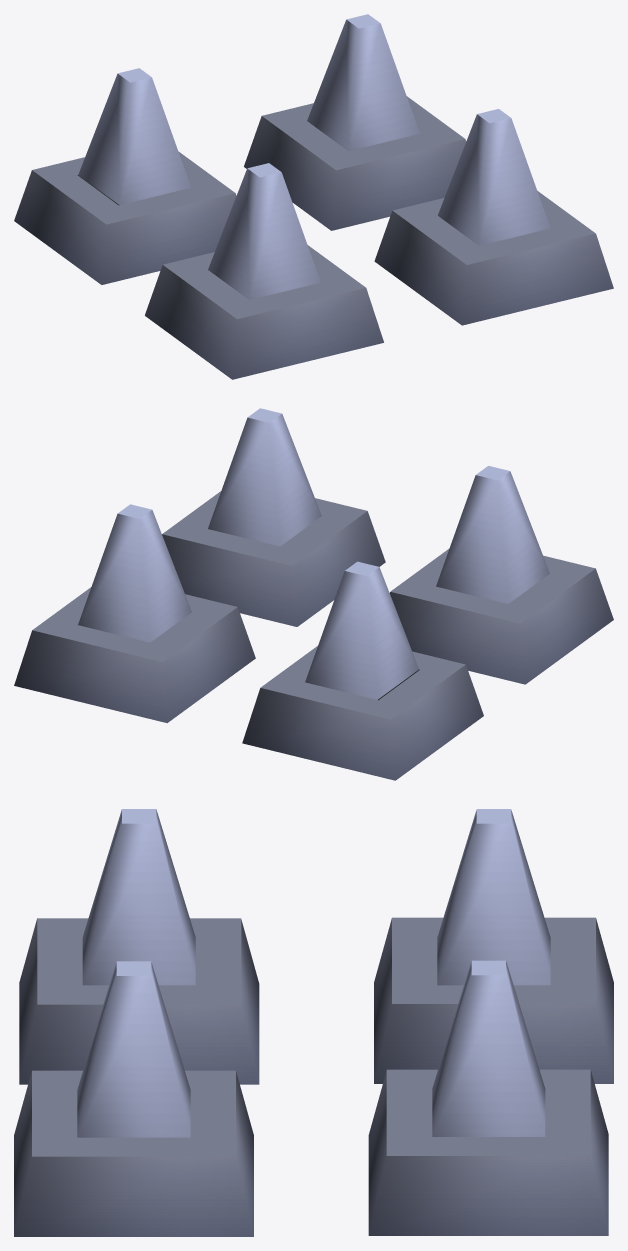
3 views of the same model, one above another, from view 1: azimuth 30°, elevation 25°; view 2: azimuth 150°, elevation 25°; view 3: azimuth 270°, elevation 25° (orthographic). The views are drawn at different scales.
Visible parts, largest first — view 1: trap, spikes; view 2: trap, spikes; view 3: trap, spikes.
Part boxes in pixels (x1,y1,x2,y2): trap: (14, 96, 613, 379); spikes: (78, 14, 550, 299); trap: (14, 491, 613, 780); spikes: (78, 408, 549, 699); trap: (14, 917, 613, 1236); spikes: (77, 809, 550, 1137).
Size of the model in its own units: 0.6392 by 0.255 by 0.6375.
1 material, 1 textured.
